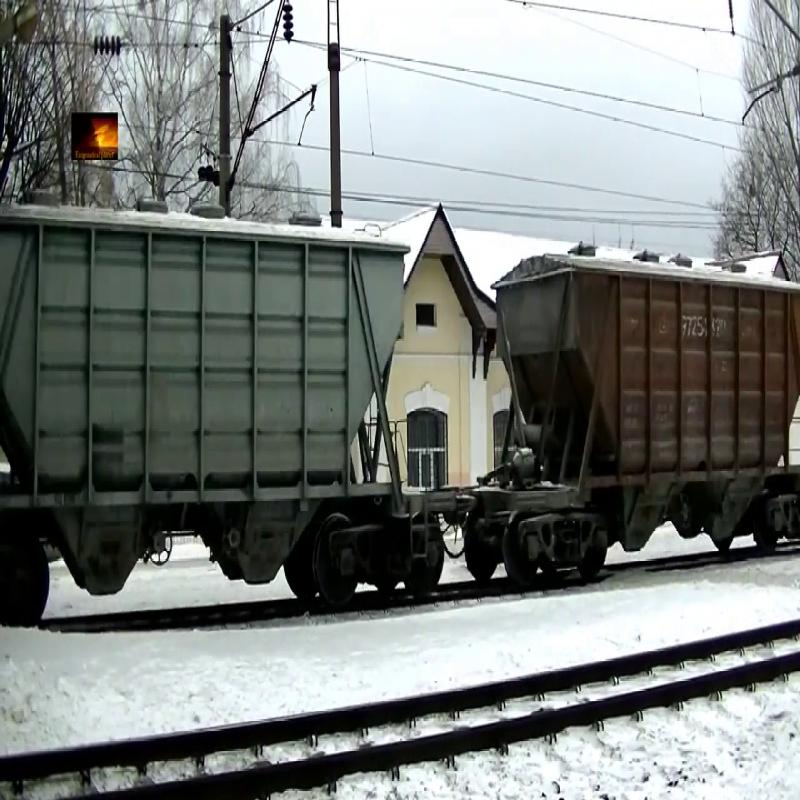train: (1, 215, 432, 619), (477, 254, 797, 590)
